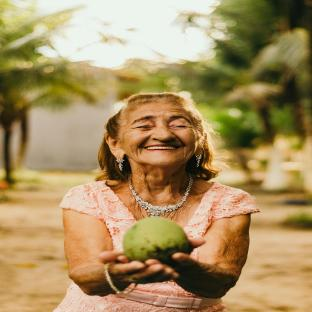Human: (55, 93, 259, 312)
